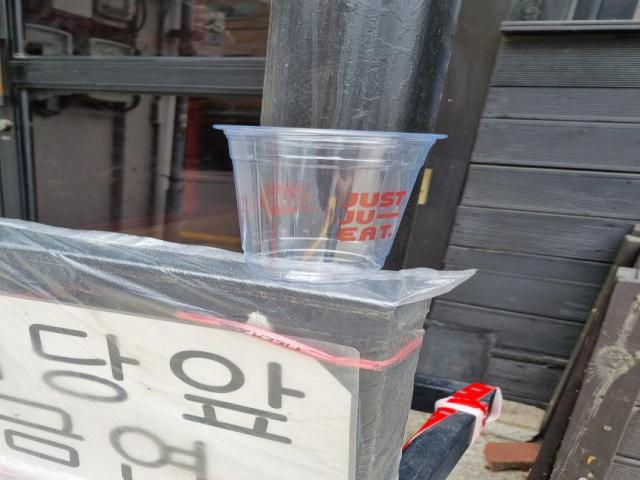cup: (203, 113, 454, 290)
